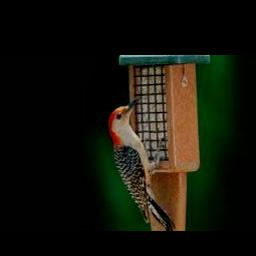Woodpecker: (108, 96, 175, 229)
